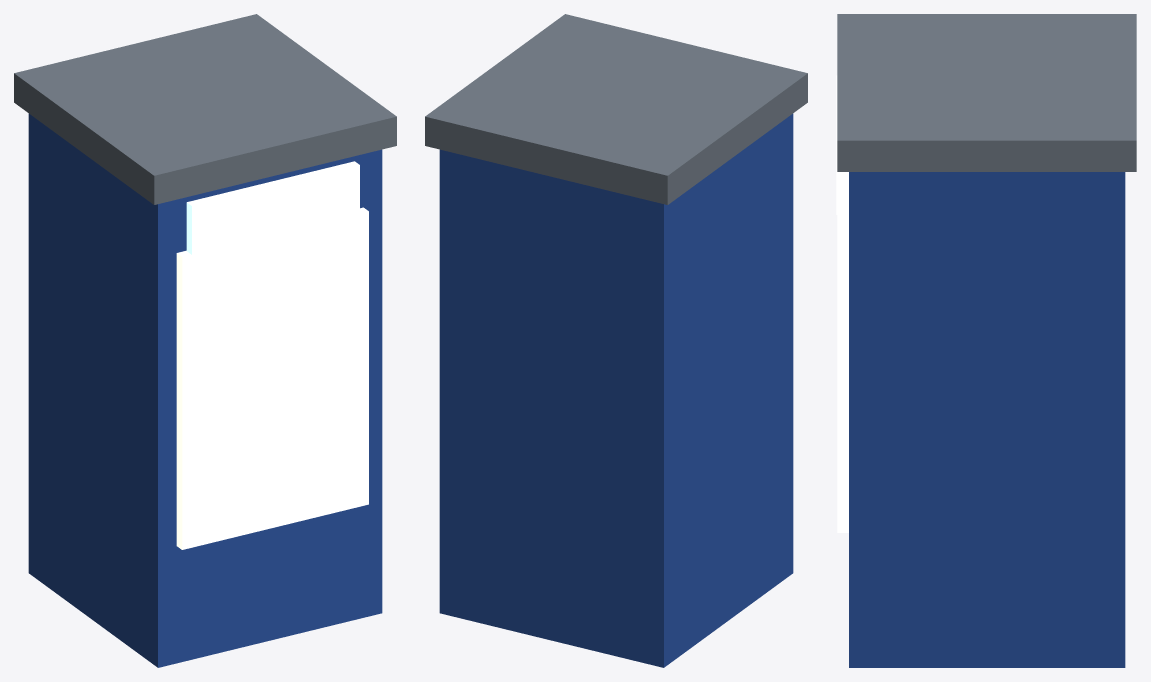
File: payphone.glb
3 renders of one model, left to right at view 1: azimuth 30°, elevation 25°; view 2: azimuth 150°, elevation 25°; view 3: azimuth 270°, elevation 25°, orthographic. The views are drawn at different scales.
Parts seen in each view (by area): view 1: cw_paint, cw_glow, cw_neon; view 2: cw_paint; view 3: cw_paint, cw_glow, cw_neon.
Part boxes in pixels (bbox=[...]): cw_paint: bbox=[14, 14, 396, 667]; cw_glow: bbox=[176, 207, 368, 549]; cw_neon: bbox=[186, 161, 359, 254]; cw_paint: bbox=[425, 14, 807, 667]; cw_paint: bbox=[837, 14, 1136, 667]; cw_glow: bbox=[837, 172, 848, 532]; cw_neon: bbox=[836, 75, 847, 214].
Bounding box in the file's own units: 1.3 × 2.55 × 1.3.
